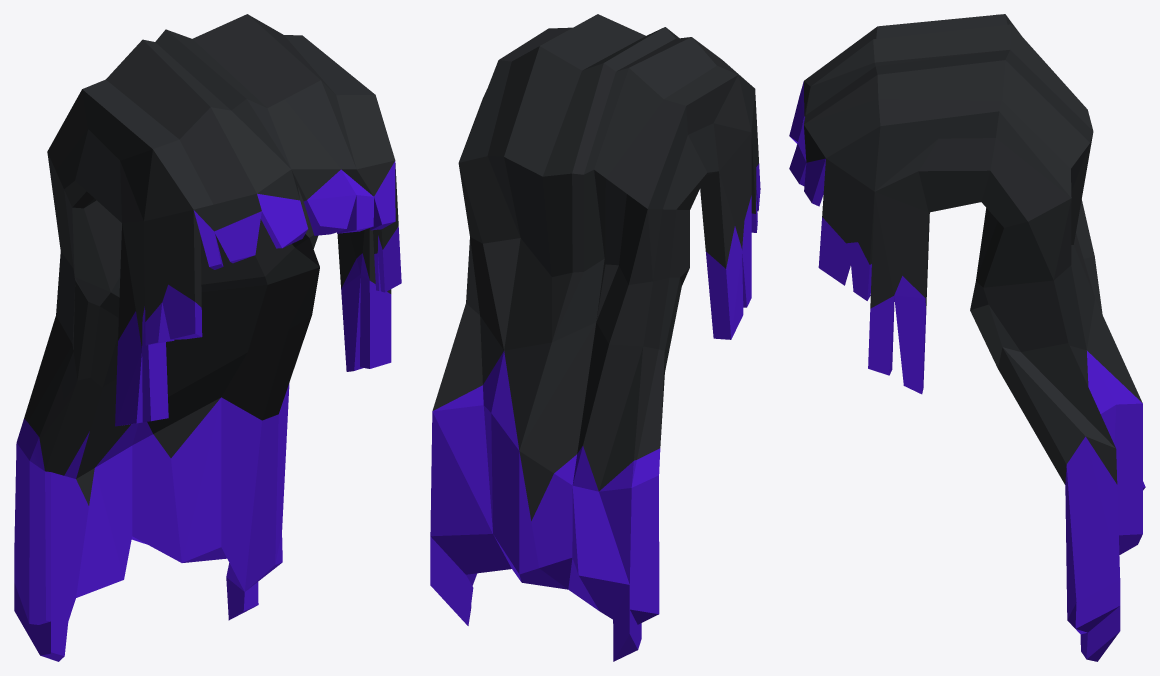
Rendered from SM_Chr_Attach_Hair_02.fbx.
3 renders of one model, left to right at view 1: azimuth 30°, elevation 25°; view 2: azimuth 150°, elevation 25°; view 3: azimuth 270°, elevation 25°, orthographic. The views are drawn at different scales.
Visible parts, largest first — view 1: SM_Chr_Attach_Hair_02; view 2: SM_Chr_Attach_Hair_02; view 3: SM_Chr_Attach_Hair_02.
Part boxes in pixels (x1,y1,x2,y2): SM_Chr_Attach_Hair_02: (14, 14, 401, 661); SM_Chr_Attach_Hair_02: (430, 14, 760, 661); SM_Chr_Attach_Hair_02: (789, 14, 1145, 661).
Size of the model in its own units: 26.16 by 62.13 by 34.09.
